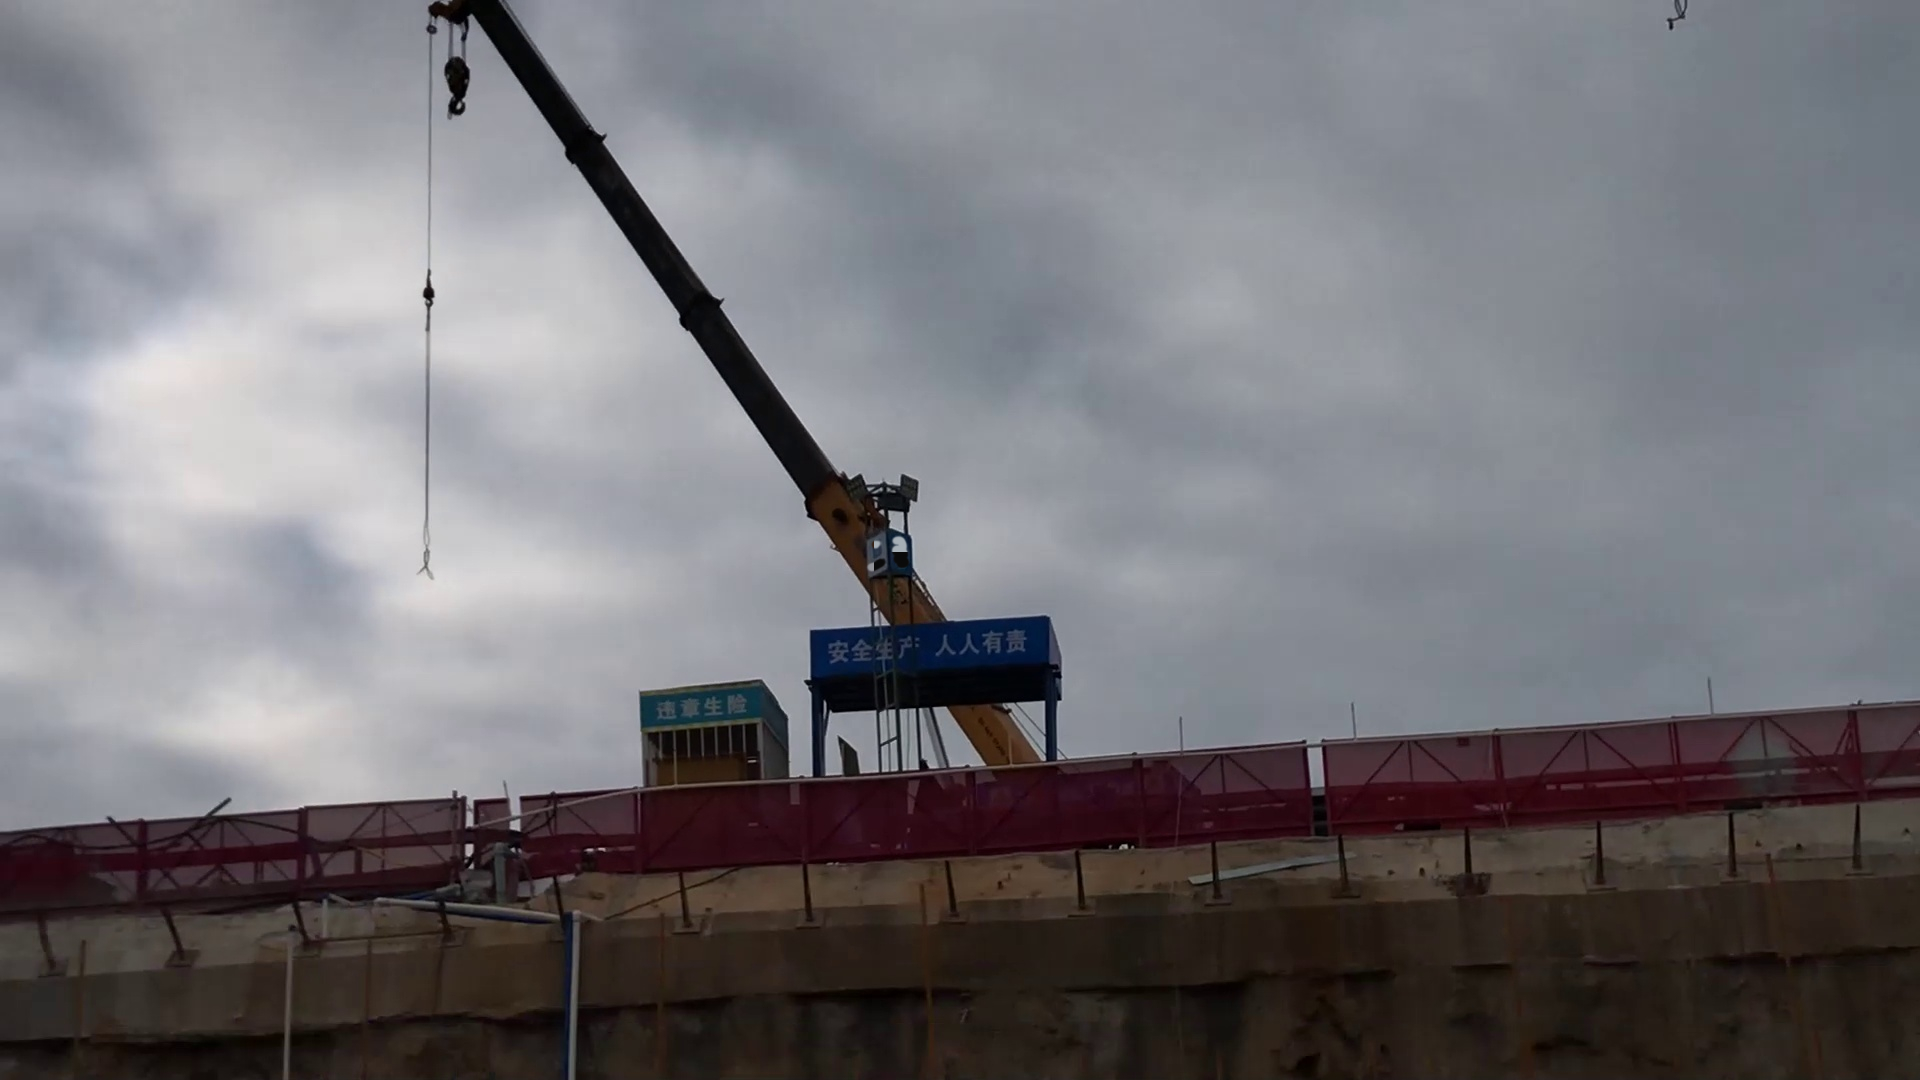fence: (1168, 662, 1920, 852), (7, 781, 952, 916), (852, 723, 1242, 880)
hook: (427, 51, 493, 123)
slogan: (818, 618, 1048, 676), (641, 679, 767, 733)
